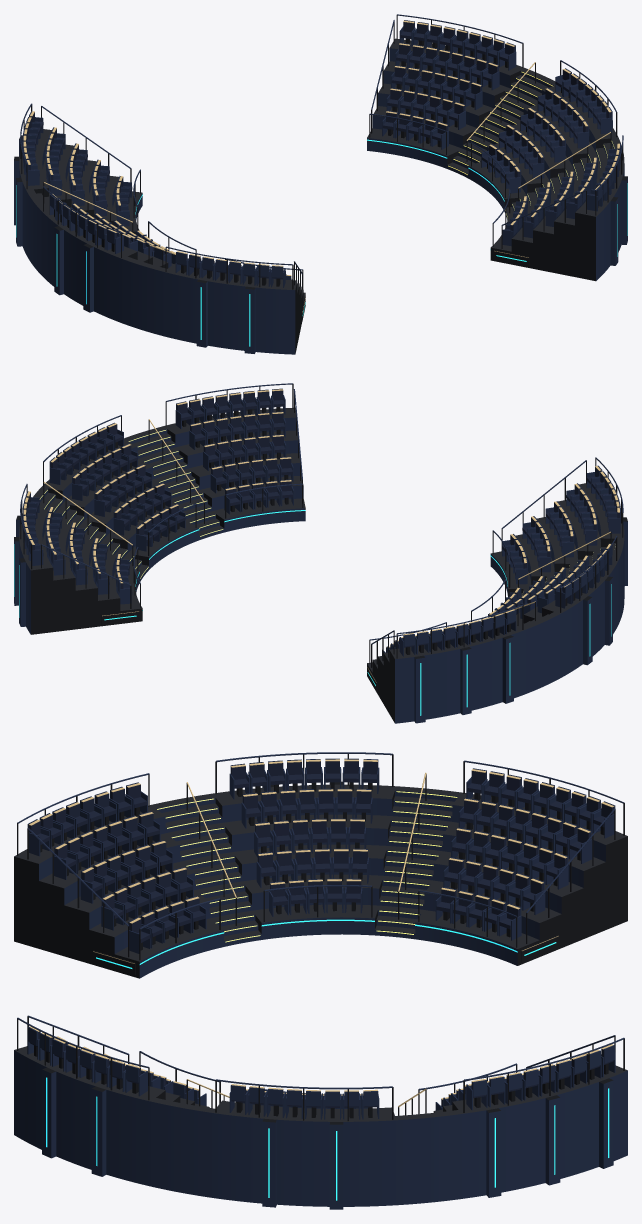
The model's file is audience.glb.
3 renders of one model, top to bottom at view 1: azimuth 30°, elevation 25°; view 2: azimuth 150°, elevation 25°; view 3: azimuth 270°, elevation 25°, orthographic. The views are drawn at different scales.
Visible parts, largest first — view 1: Audience_Seat_Module.001, Audience_Seat_Module.003, Audience_SideLeft_Row_Platform_B, Audience_SideRight_Row_Platform_B, Audience_Seat_Module.002, Audience_SideLeft_Row_Platform_A, Audience_RearRight_Row_Platform, Audience_Seat_Module, Audience_SideRight_Row_Platform_A, Audience_RearLeft_Row_Platform, Audience_Stair_Module_Right_Rear, Audience_Stair_Module_Left_Mid (+12 smaller); view 2: Audience_Seat_Module.003, Audience_Seat_Module.002, Audience_RearLeft_Row_Platform, Audience_RearRight_Row_Platform, Audience_SideRight_Row_Platform_B, Audience_Seat_Module.001, Audience_Stair_Module_Right_Mid, Audience_SideRight_Row_Platform_A, Audience_SideLeft_Row_Platform_A, Audience_SideLeft_Row_Platform_B, Audience_Seat_Module, Audience_Stair_Module_Left_Rear (+11 smaller); view 3: Audience_Seat_Module.002, Audience_Seat_Module, Audience_SideRight_Row_Platform_A, Audience_RearLeft_Row_Platform, Audience_SideLeft_Row_Platform_B, Audience_RearRight_Row_Platform, Audience_SideLeft_Row_Platform_A, Audience_SideRight_Row_Platform_B, Audience_Seat_Module.003, Audience_Stair_Module_Left_Rear, Audience_Stair_Module_Left_Mid, Audience_Stair_Module_Right_Rear (+11 smaller).
Boxes of the visible parts, box(x1,y1,x2,y2) form: Audience_Seat_Module.001: box(382, 20, 516, 149); Audience_Seat_Module.003: box(481, 68, 620, 246); Audience_SideLeft_Row_Platform_B: box(163, 263, 305, 354); Audience_SideRight_Row_Platform_B: box(490, 159, 624, 281); Audience_Seat_Module.002: box(49, 194, 292, 287); Audience_SideLeft_Row_Platform_A: box(41, 209, 173, 322); Audience_RearRight_Row_Platform: box(367, 38, 525, 168); Audience_Seat_Module: box(22, 111, 132, 226); Audience_SideRight_Row_Platform_A: box(468, 86, 618, 211); Audience_RearLeft_Row_Platform: box(19, 129, 142, 254); Audience_Stair_Module_Right_Rear: box(447, 68, 555, 178); Audience_Stair_Module_Left_Mid: box(122, 256, 165, 335); Audience_Seat_Module.003: box(49, 388, 293, 551); Audience_Seat_Module.002: box(481, 465, 620, 619); Audience_RearLeft_Row_Platform: box(367, 625, 525, 723); Audience_RearRight_Row_Platform: box(19, 509, 142, 634); Audience_SideRight_Row_Platform_B: box(163, 408, 305, 532); Audience_Seat_Module.001: box(22, 491, 132, 604); Audience_Stair_Module_Right_Mid: box(124, 426, 224, 540); Audience_SideRight_Row_Platform_A: box(41, 440, 198, 569); Audience_SideLeft_Row_Platform_A: box(504, 558, 618, 677); Audience_SideLeft_Row_Platform_B: box(490, 483, 624, 598); Audience_Seat_Module: box(382, 609, 516, 656); Audience_Stair_Module_Left_Rear: box(519, 612, 560, 693); Audience_Seat_Module.002: box(27, 758, 379, 953); Audience_Seat_Module: box(435, 768, 615, 940); Audience_SideRight_Row_Platform_A: box(212, 1100, 396, 1206); Audience_RearLeft_Row_Platform: box(415, 792, 627, 965); Audience_SideLeft_Row_Platform_B: box(14, 805, 223, 978); Audience_RearRight_Row_Platform: box(433, 1065, 627, 1198); Audience_SideLeft_Row_Platform_A: box(212, 784, 396, 939); Audience_SideRight_Row_Platform_B: box(14, 1046, 209, 1186); Audience_Seat_Module.003: box(27, 1026, 379, 1119); Audience_Stair_Module_Left_Rear: box(375, 786, 461, 939); Audience_Stair_Module_Left_Mid: box(151, 793, 261, 946); Audience_Stair_Module_Right_Rear: box(395, 1110, 461, 1205).
Bounding box in the file's own units: 23.81 × 3.83 × 18.
